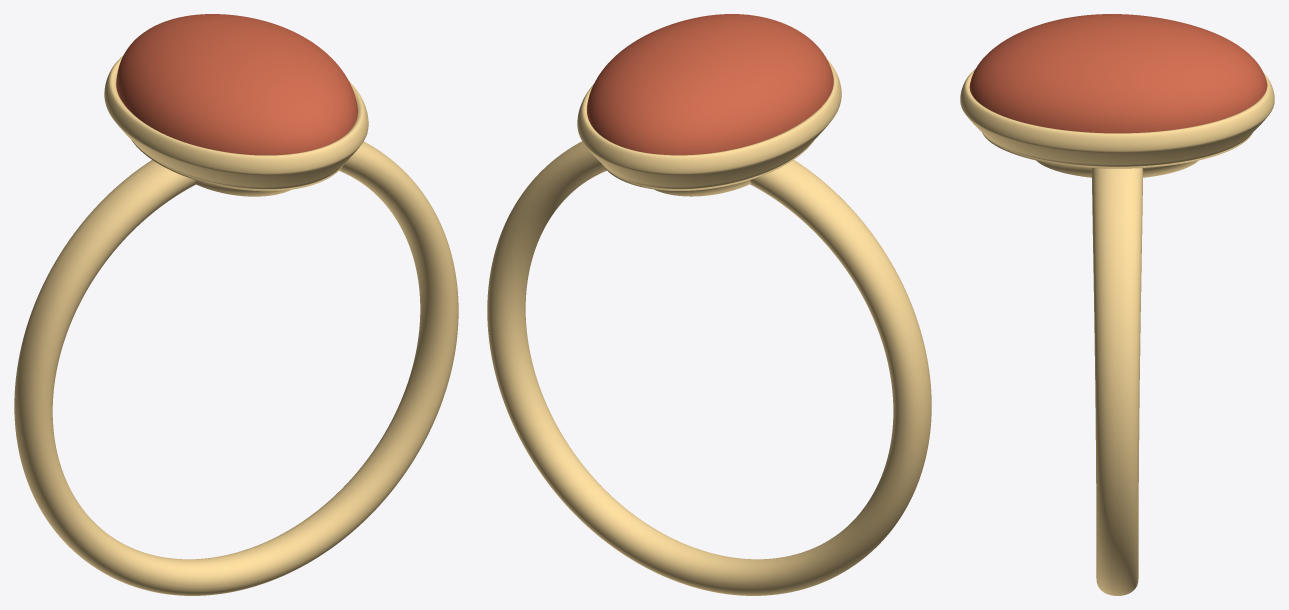
The model's file is vyoma-minimal-moonga.glb.
3 views of the same model, side by side, from view 1: azimuth 30°, elevation 25°; view 2: azimuth 150°, elevation 25°; view 3: azimuth 270°, elevation 25° (orthographic).
Parts seen in each view (by area): view 1: shank, stone, metal; view 2: shank, stone, metal; view 3: stone, shank, metal.
Boxes of the visible parts, left/top/right/bottom form: shank: left=14, top=141, right=458, bottom=595; stone: left=116, top=14, right=357, bottom=155; metal: left=104, top=56, right=368, bottom=196; shank: left=487, top=141, right=931, bottom=595; stone: left=587, top=14, right=833, bottom=155; metal: left=577, top=59, right=841, bottom=196; stone: left=969, top=14, right=1267, bottom=133; shank: left=1091, top=168, right=1143, bottom=595; metal: left=960, top=69, right=1274, bottom=177.
Size of the model in its own units: 2.01 by 2.42 by 1.27.
